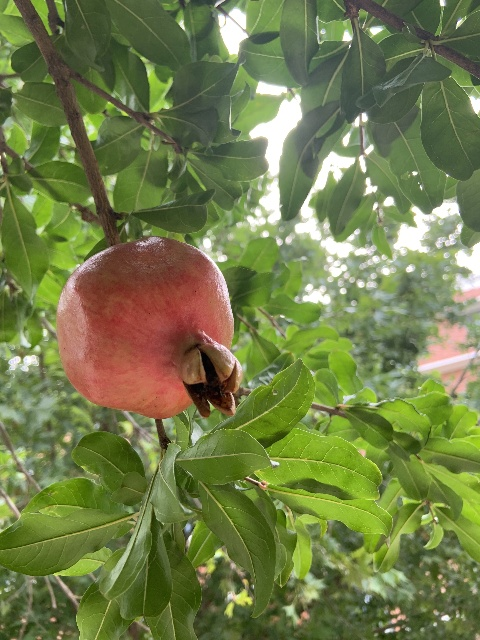ripe: (56, 236, 242, 420)
